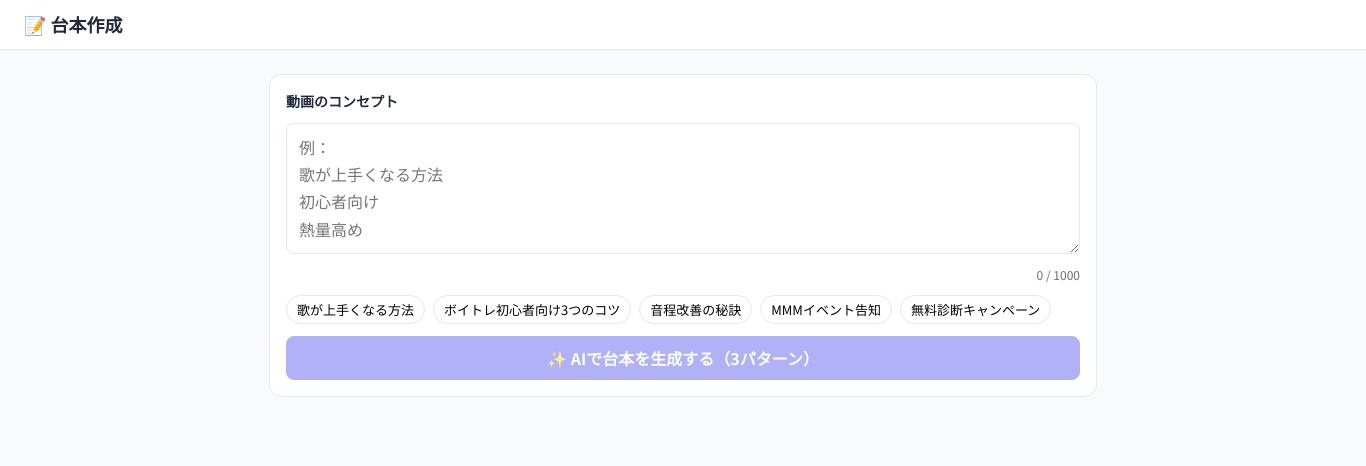
Test: ScriptMode › 生成エラーを表示し、入力を保持する。サーバーのメッセージをそのまま出す
Type "大事な入力" into the text box labelled "動画のコンセプト" at (683, 188), box [286,123,1080,254]
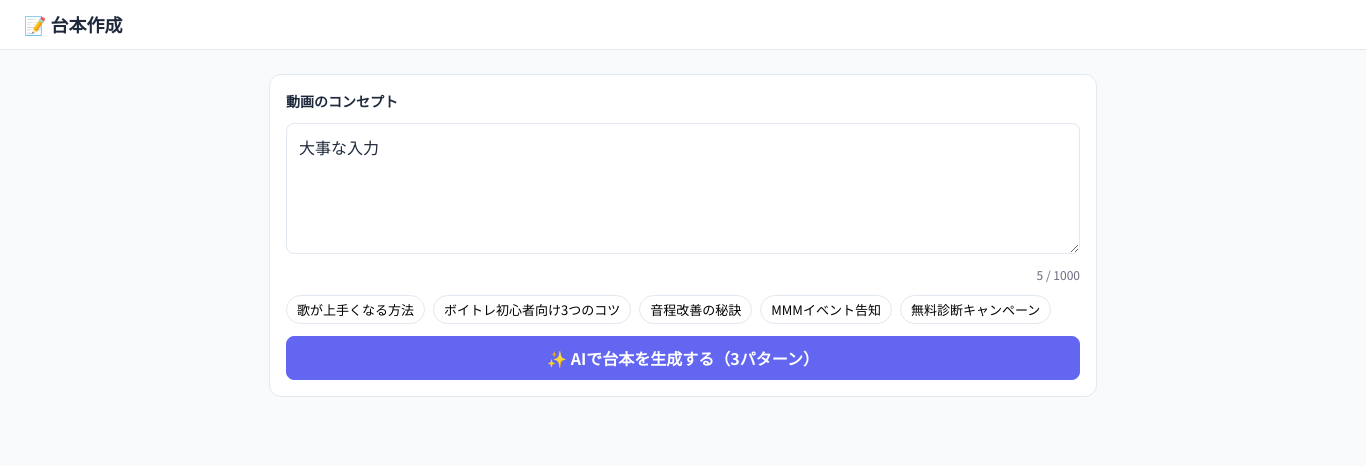
Click the button "✨ AIで台本を生成する（3パターン）" at (683, 358), box [286,336,1080,380]
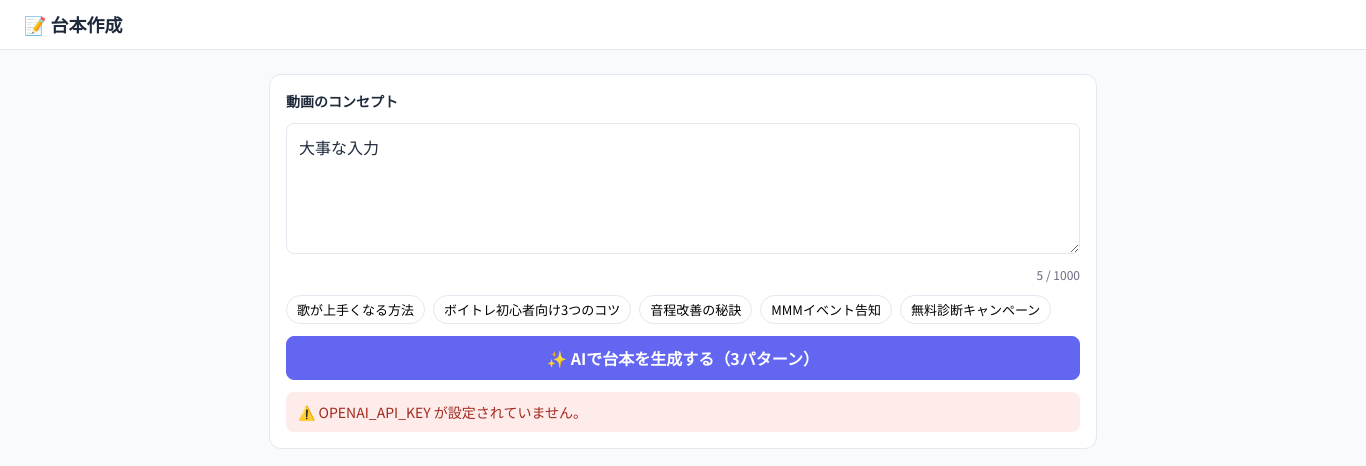
Check: the button "✨ AIで台本を生成する（3パターン）" is enabled, box [286,336,1080,380]
Check: the message shows "OPENAI_API_KEY が設定されていません。", box [319,402,587,422]
